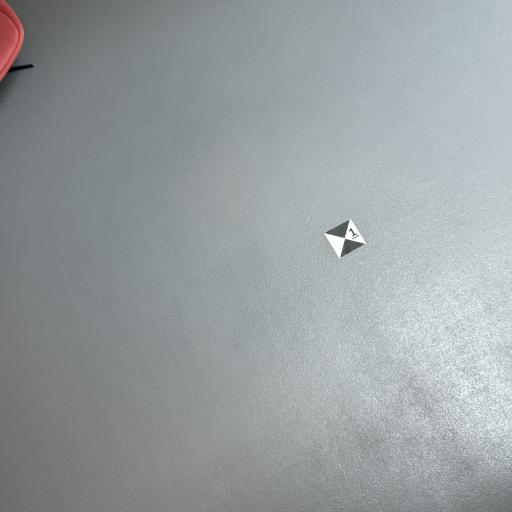target1: (325, 217, 366, 260)
